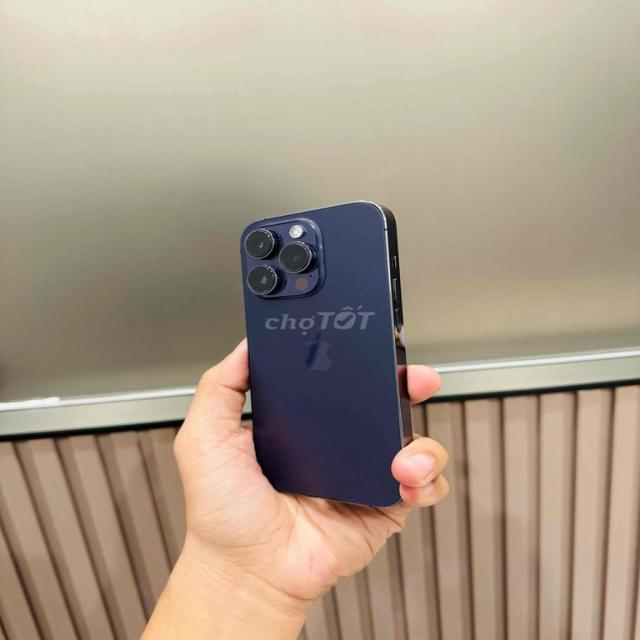gen_14: (237, 196, 422, 526)
